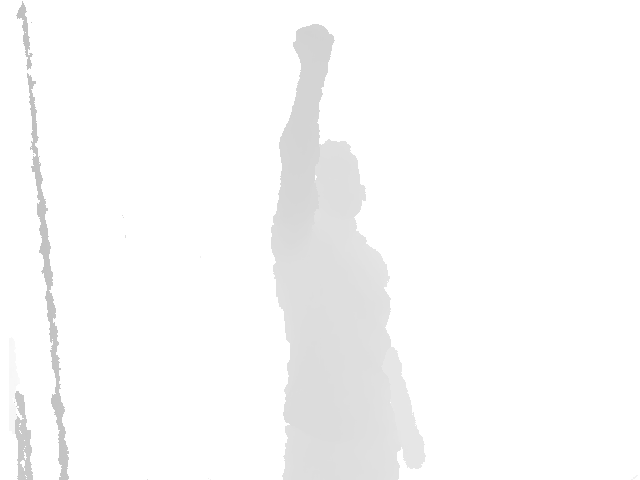hand: (292, 24, 335, 70)
hand_down: (399, 429, 426, 470)
head: (302, 139, 366, 225)
person: (270, 24, 427, 480)
